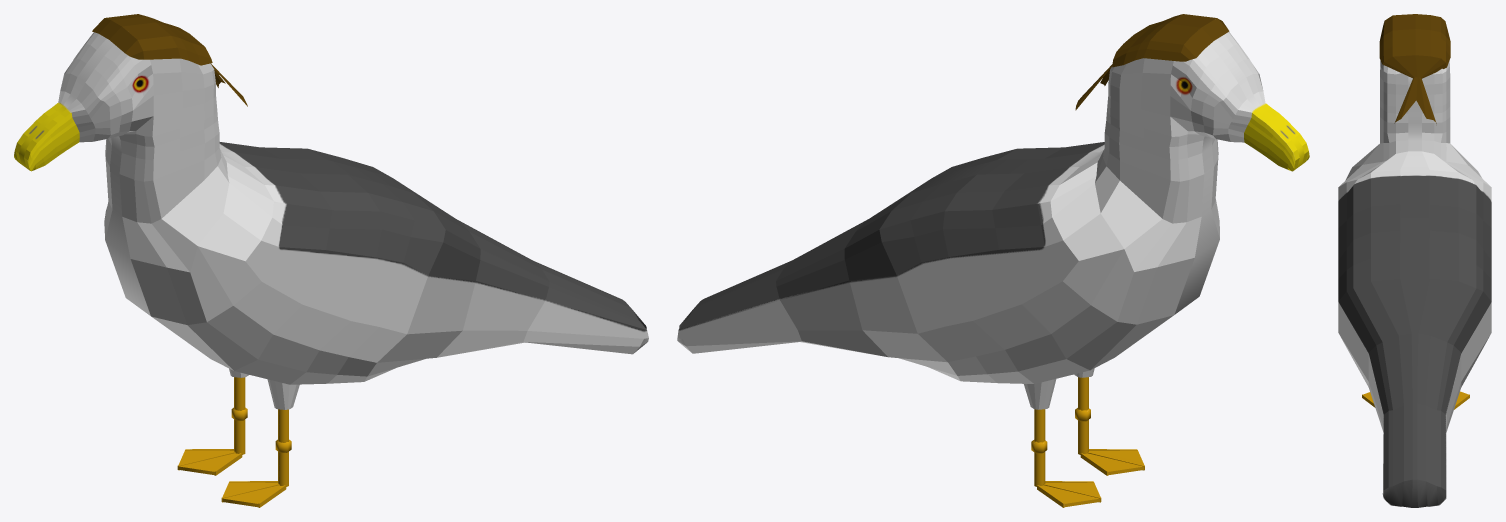
The model's file is seagullvariant2.fbx.
3 views of the same model, side by side, from view 1: azimuth 30°, elevation 25°; view 2: azimuth 150°, elevation 25°; view 3: azimuth 270°, elevation 25° (orthographic). The views are drawn at different scales.
Parts seen in each view (by area): view 1: Plane003, Plane009, Pyramid002, Pyramid001, Plane006; view 2: Plane003, Plane009, Pyramid002, Pyramid001, Plane007; view 3: Plane003, Plane009.
Part boxes in pixels (x1,y1,x2,y2): Plane003: (14,32,648,384); Plane009: (92,14,247,106); Pyramid002: (177,377,247,475); Pyramid001: (221,409,291,507); Plane006: (267,379,299,409); Plane003: (677,32,1309,383); Plane009: (1075,14,1229,110); Pyramid002: (1031,409,1101,507); Pyramid001: (1075,377,1144,475); Plane007: (1024,379,1056,409); Plane003: (1338,61,1491,507); Plane009: (1379,14,1450,123).
Bounding box in the file's own units: 29.81 × 21.91 × 8.74.
